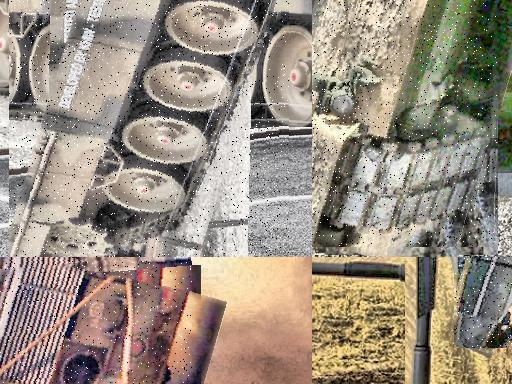tanks: (10, 1, 271, 258), (313, 1, 498, 247), (1, 263, 189, 384), (456, 258, 512, 349), (414, 258, 439, 384)
